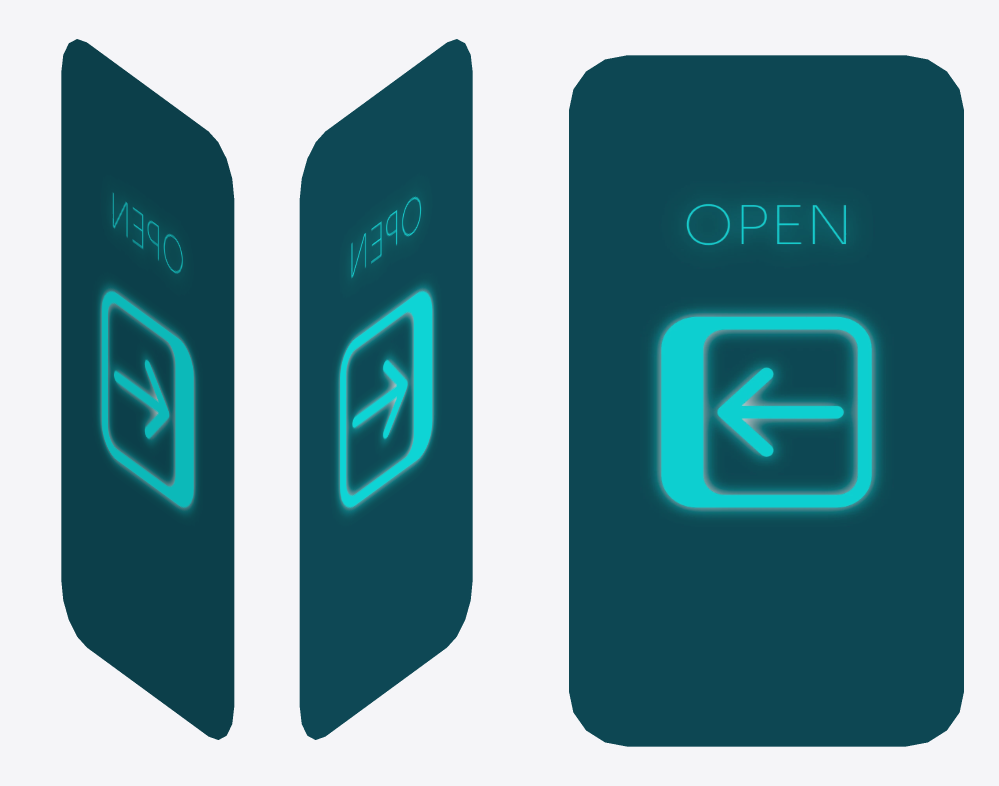
Rendered from Courtines_Button_open_optimized.glb.
3 renders of one model, left to right at view 1: azimuth 30°, elevation 25°; view 2: azimuth 150°, elevation 25°; view 3: azimuth 270°, elevation 25°, orthographic. The views are drawn at different scales.
Parts seen in each view (by area): view 1: Courtines_Button.001; view 2: Courtines_Button.001; view 3: Courtines_Button.001.
Boxes of the visible parts, x1=… form: Courtines_Button.001: x1=61, y1=39, x2=234, y2=739; Courtines_Button.001: x1=299, y1=39, x2=472, y2=739; Courtines_Button.001: x1=569, y1=55, x2=963, y2=746.
Size of the model in its own units: 0.0332 by 0.4232 by 0.2288.
2 materials, 1 textured.
